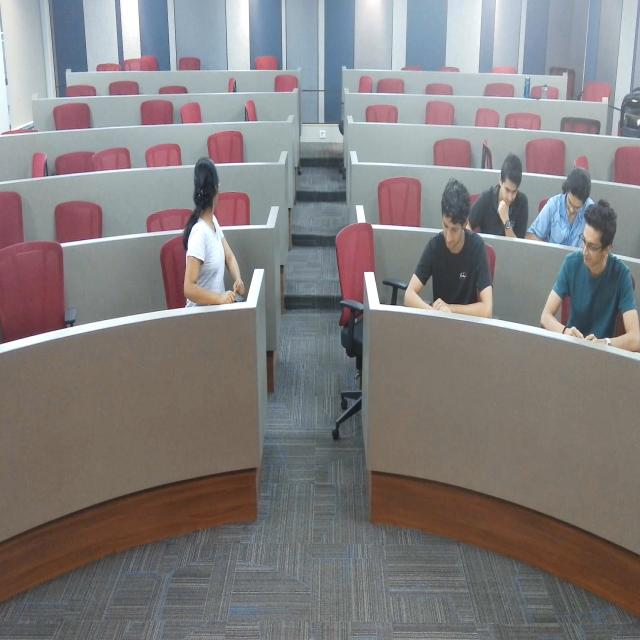cheating: (175, 164, 250, 318)
